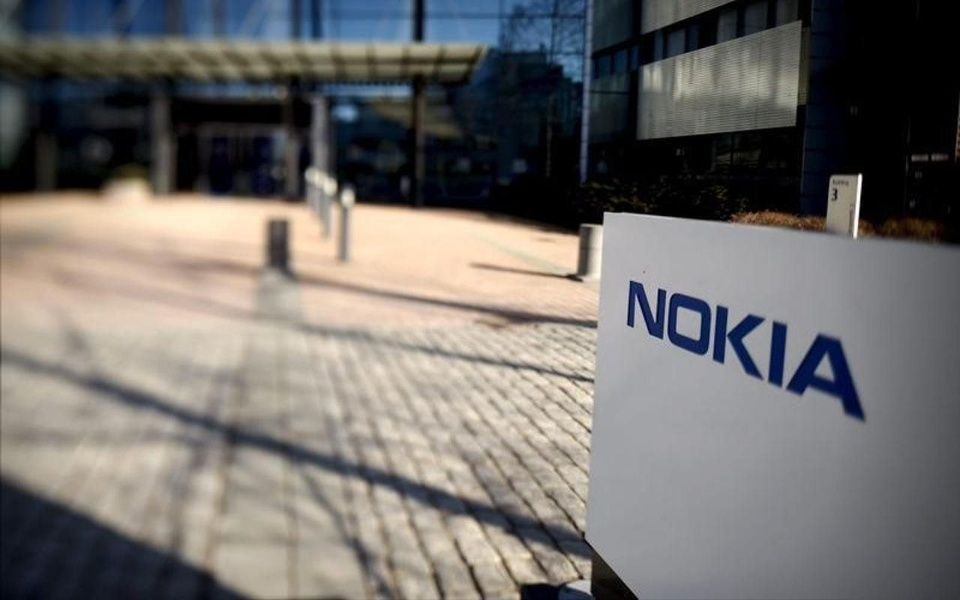text: (641, 280, 656, 424), (657, 280, 672, 424), (673, 280, 688, 424), (689, 280, 704, 424), (705, 280, 720, 424), (721, 280, 736, 424), (737, 280, 752, 424), (753, 280, 768, 424), (769, 280, 784, 424), (785, 280, 800, 424), (801, 280, 816, 424), (817, 280, 832, 424), (833, 280, 848, 424), (849, 280, 864, 424), (629, 280, 640, 424), (865, 280, 867, 424), (833, 178, 848, 187), (913, 154, 928, 163), (929, 154, 944, 163), (833, 188, 840, 203), (945, 154, 952, 163), (849, 178, 851, 187), (910, 154, 912, 163)
